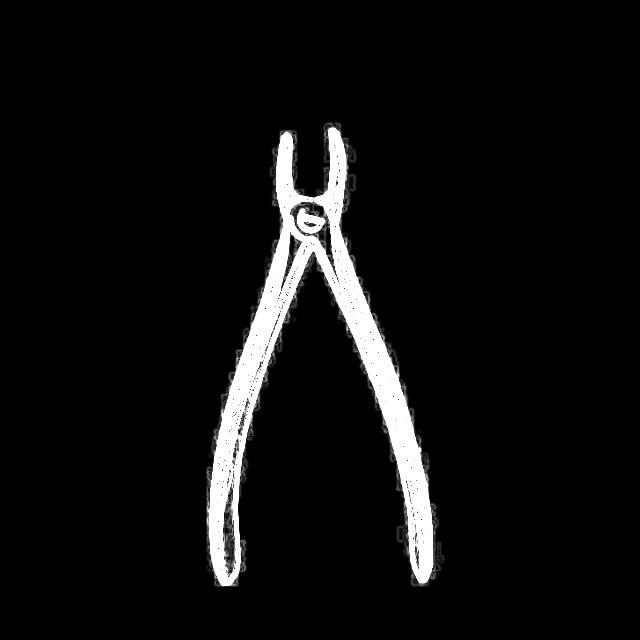forceps: (205, 124, 441, 591)
